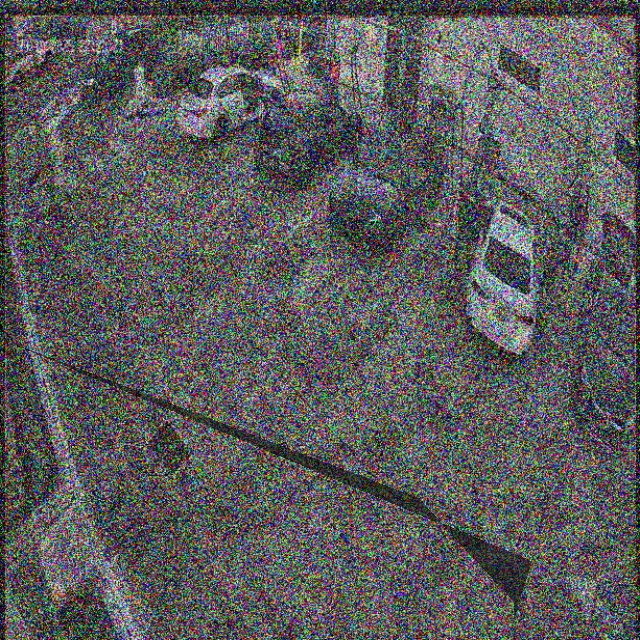Car: (324, 123, 447, 256), (458, 188, 533, 360), (253, 83, 362, 187), (175, 65, 285, 145)
